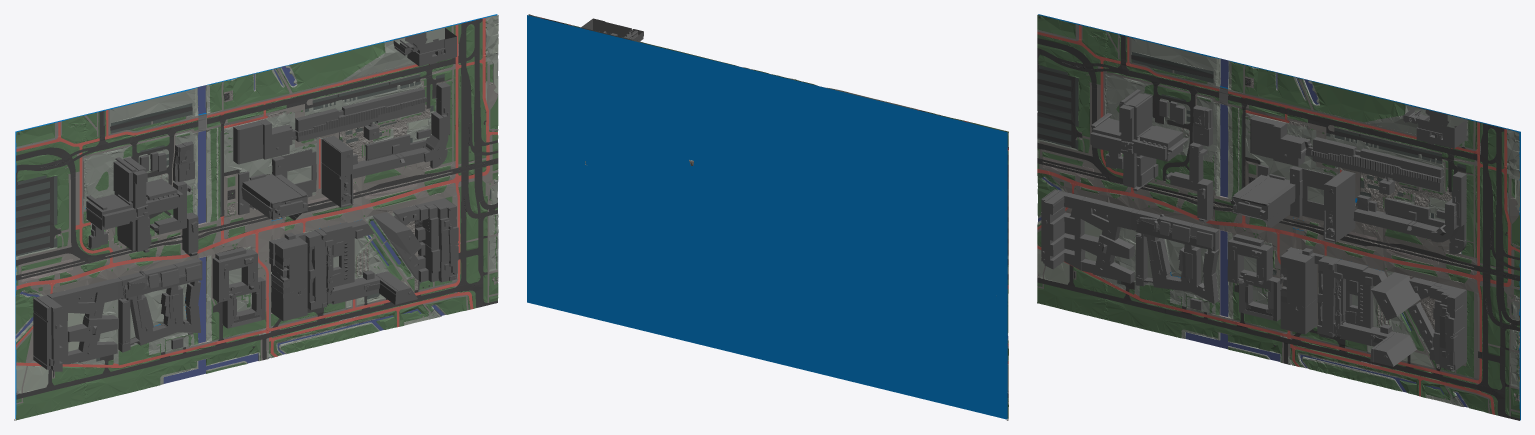
File: usp.glb
3 views of the same model, side by side, from view 1: azimuth 30°, elevation 25°; view 2: azimuth 150°, elevation 25°; view 3: azimuth 330°, elevation 25° (orthographic).
Visible parts, largest first — view 1: obj1, obj7, obj6, obj3, obj8, obj4, obj9, obj5, obj14, obj12, obj15; view 2: obj15, obj1, obj7; view 3: obj1, obj7, obj6, obj3, obj8, obj4, obj9, obj5, obj14, obj12, obj15.
Part boxes in pixels (left/top/right/bottom): obj1: left=33, top=28, right=458, bottom=371; obj7: left=15, top=19, right=498, bottom=420; obj6: left=16, top=18, right=498, bottom=399; obj3: left=16, top=25, right=498, bottom=404; obj8: left=71, top=15, right=498, bottom=364; obj4: left=16, top=18, right=497, bottom=367; obj9: left=15, top=23, right=498, bottom=393; obj5: left=16, top=74, right=491, bottom=361; obj14: left=15, top=66, right=444, bottom=383; obj12: left=21, top=45, right=495, bottom=361; obj15: left=15, top=14, right=497, bottom=418; obj15: left=527, top=15, right=1007, bottom=419; obj1: left=581, top=18, right=643, bottom=41; obj7: left=565, top=23, right=1008, bottom=418; obj1: left=1041, top=89, right=1466, bottom=371; obj7: left=1037, top=15, right=1519, bottom=418; obj6: left=1037, top=16, right=1519, bottom=420; obj3: left=1037, top=24, right=1519, bottom=416; obj8: left=1074, top=38, right=1519, bottom=406; obj4: left=1037, top=25, right=1519, bottom=414; obj9: left=1037, top=58, right=1519, bottom=407; obj5: left=1037, top=36, right=1512, bottom=313; obj14: left=1038, top=59, right=1467, bottom=407; obj12: left=1042, top=36, right=1518, bottom=335; obj15: left=1038, top=14, right=1520, bottom=420.
Bounding box in the file's own units: 701 × 401 × 87.
